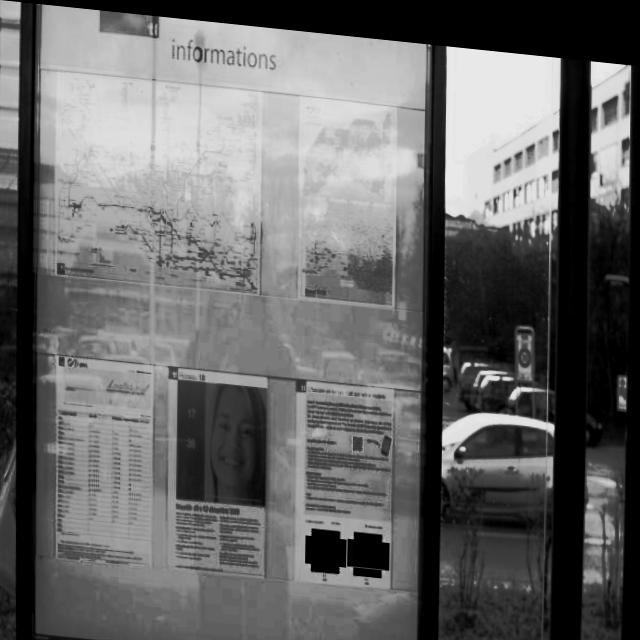qr_code: (352, 528, 387, 566), (310, 525, 344, 564)
